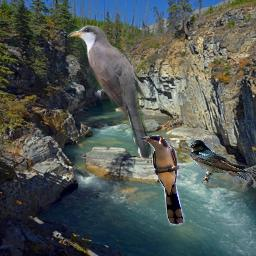Cuckoo: (67, 23, 155, 162), (140, 135, 185, 226)
Swallow: (190, 140, 250, 184)
